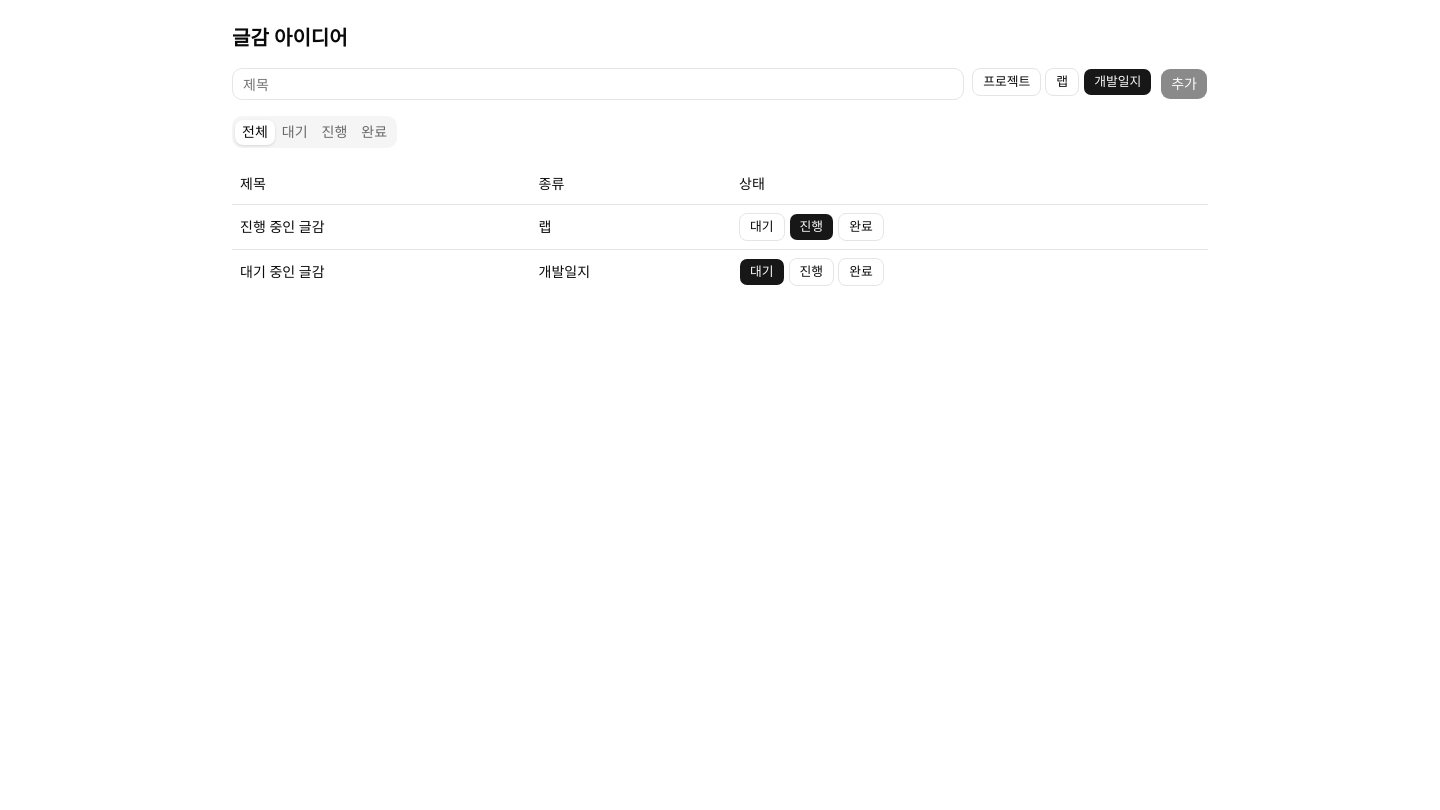
Test case: IdeasPage 삭제 › 예외 › 500이면 대화상자가 닫히고 표 위에 "삭제하지 못했습니다. (500)"이 보이며 글감은 목록에 그대로 있어야 한다
Step 1. Click the text "진행 중인 글감" → (282, 226), box [232,204,531,249]
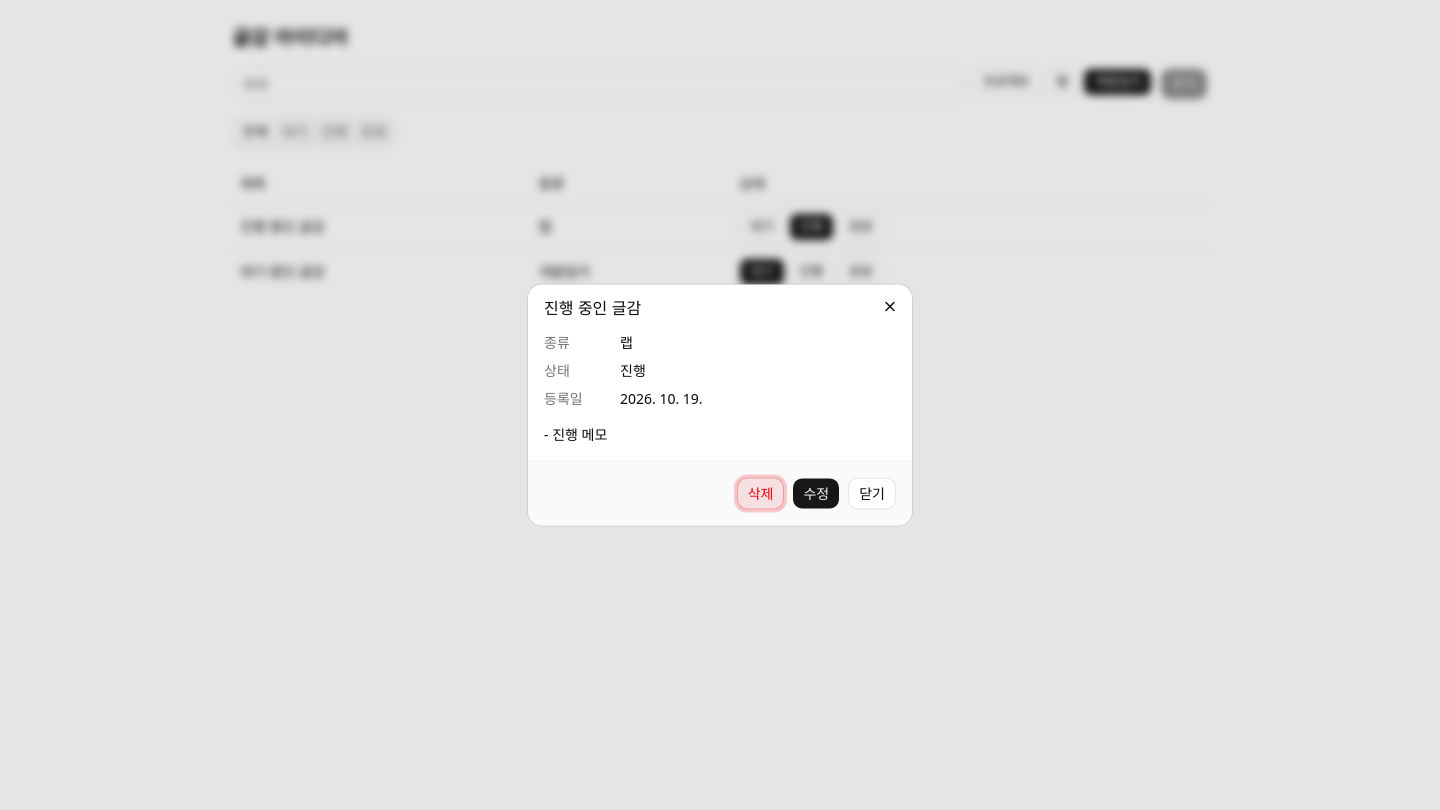
Step 2. Click the button "삭제" → (761, 494), box [737,478,784,510]
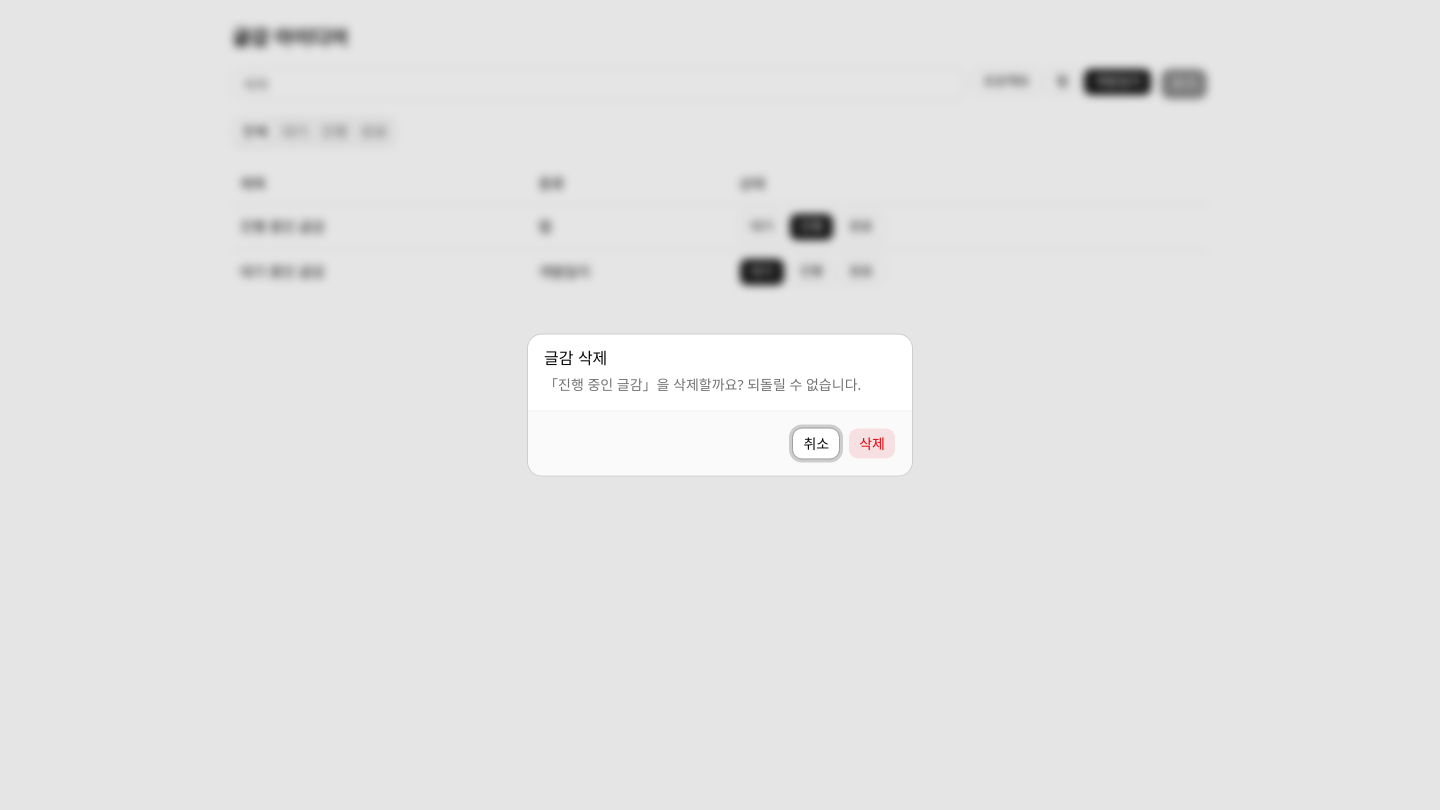
Step 3. Click the button "삭제" → (872, 444), box [848,428,896,460]
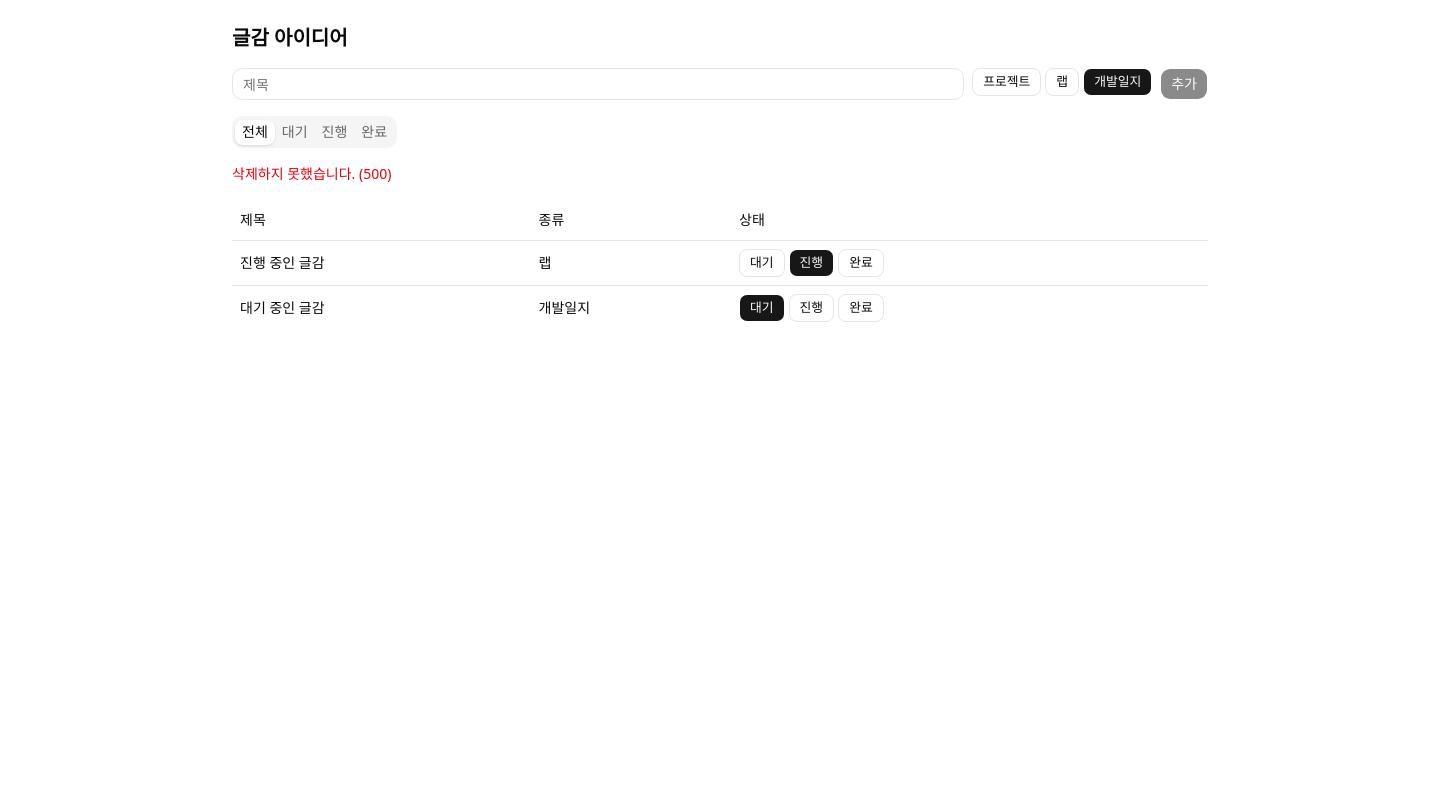
expect the text "진행 중인 글감" is shown: met, box [232,240,531,285]
expect the message reads "삭제하지 못했습니다. (500)": met, box [232,164,391,183]
expect the dialog is gone: met
